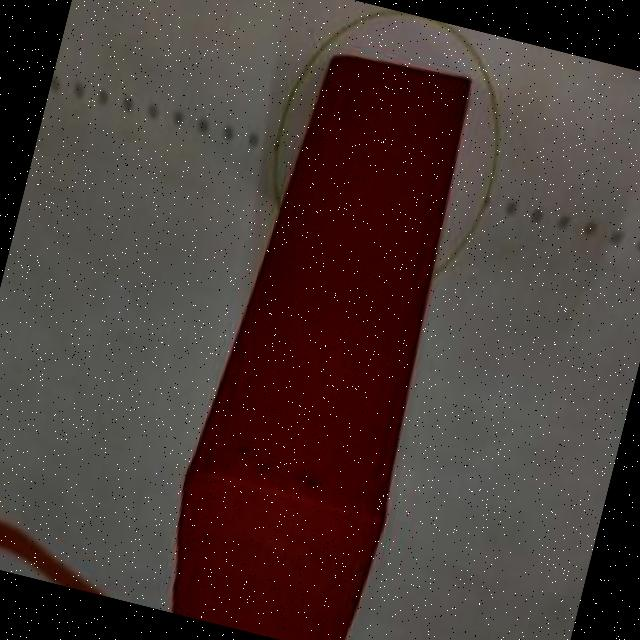redbox: (151, 37, 496, 640)
